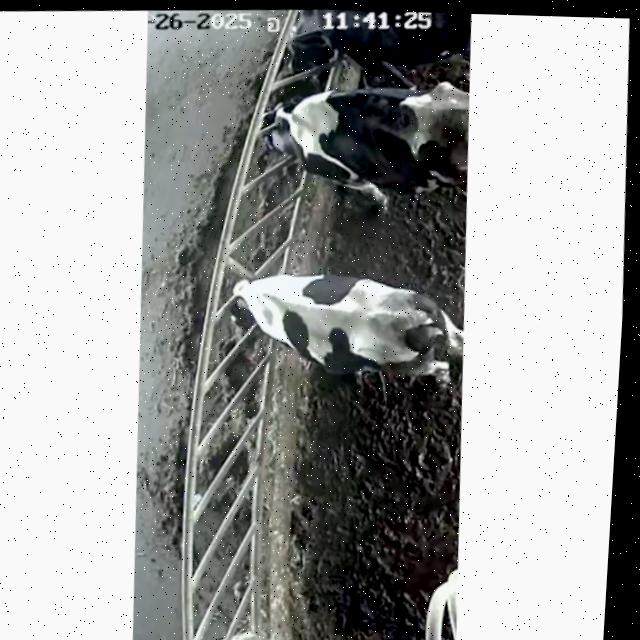eat: (214, 75, 393, 187), (177, 249, 314, 357), (252, 8, 384, 69)
